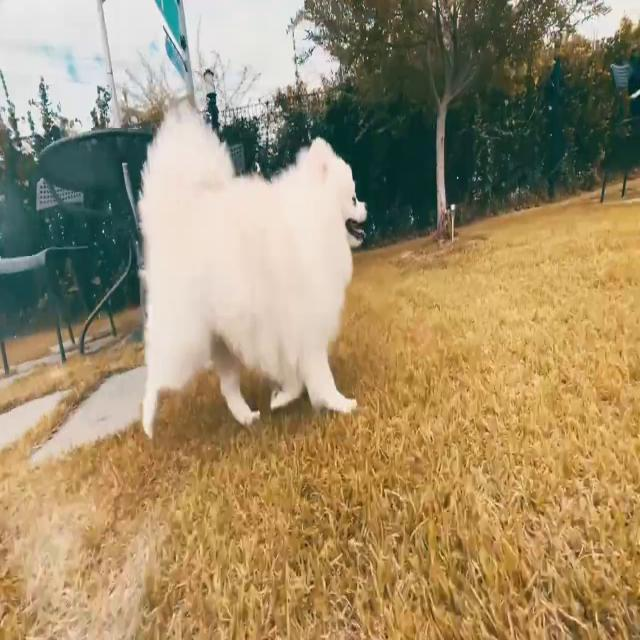Dog: (138, 100, 368, 439)
